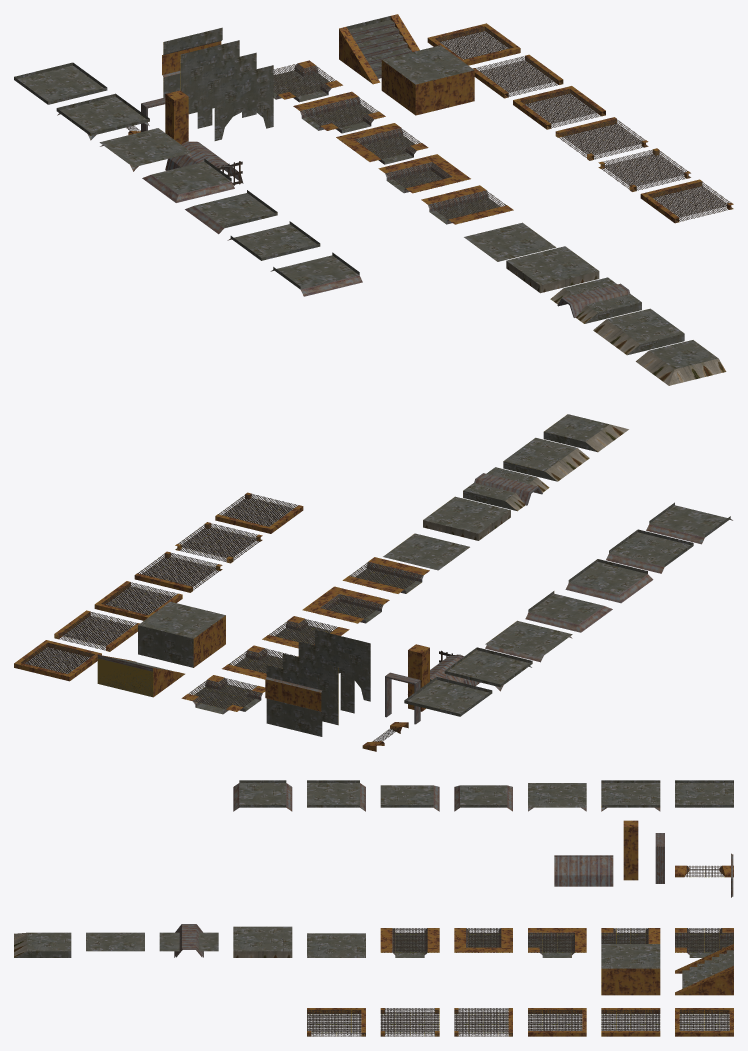
Rendered from ModularSewerKit.fbx_Showcase.fbx.
3 renders of one model, top to bottom at view 1: azimuth 30°, elevation 25°; view 2: azimuth 150°, elevation 25°; view 3: azimuth 270°, elevation 25°, orthographic. The views are drawn at different scales.
Visible parts, largest first — view 1: Floor011.001, Stairs001.001, Wall003.001, Floor009.001, Floor010.001, Floor007.001, Floor008.001, CatWalk003.001, CatWalk006.001, CatWalk004.001, CatWalk002.001, CatWalk005.001 (+19 smaller); view 2: Floor011.001, Wall002.001, Floor009.001, Ceiling003.001, Floor010.001, Floor007.001, Ceiling002.001, Stairs001.001, CatWalk001.001, CatWalk006.001, CatWalk004.001, CatWalk002.001 (+20 smaller); view 3: Floor011.001, Stairs001.001, PlugWall003.001, Floor009.001, CatWalk002.001, CatWalk005.001, CatWalk001.001, CatWalk003.001, Ceiling006.001, CatWalk004.001, CatWalk006.001, Floor002.001 (+17 smaller).
Boxes of the visible parts, x1=… form: Floor011.001: x1=381, y1=45, x2=474, y2=115; Stairs001.001: x1=339, y1=14, x2=419, y2=84; Wall003.001: x1=214, y1=65, x2=273, y2=140; Floor009.001: x1=506, y1=246, x2=599, y2=293; Floor010.001: x1=593, y1=308, x2=684, y2=355; Floor007.001: x1=550, y1=277, x2=641, y2=323; Floor008.001: x1=636, y1=340, x2=726, y2=385; CatWalk003.001: x1=513, y1=86, x2=605, y2=129; CatWalk006.001: x1=640, y1=179, x2=733, y2=223; CatWalk004.001: x1=555, y1=117, x2=648, y2=160; CatWalk002.001: x1=472, y1=54, x2=563, y2=98; CatWalk005.001: x1=598, y1=148, x2=690, y2=191; Floor011.001: x1=138, y1=601, x2=225, y2=667; Wall002.001: x1=265, y1=665, x2=322, y2=736; Floor009.001: x1=423, y1=496, x2=510, y2=540; Ceiling003.001: x1=565, y1=559, x2=653, y2=603; Floor010.001: x1=503, y1=437, x2=589, y2=481; Floor007.001: x1=463, y1=467, x2=549, y2=511; Ceiling002.001: x1=606, y1=529, x2=693, y2=573; Stairs001.001: x1=97, y1=654, x2=184, y2=697; CatWalk001.001: x1=14, y1=640, x2=101, y2=681; CatWalk006.001: x1=215, y1=492, x2=303, y2=533; CatWalk004.001: x1=134, y1=551, x2=222, y2=592; CatWalk002.001: x1=54, y1=610, x2=139, y2=651; Floor011.001: x1=601, y1=944, x2=660, y2=995; Stairs001.001: x1=675, y1=944, x2=733, y2=995; PlugWall003.001: x1=554, y1=855, x2=613, y2=886; Floor009.001: x1=233, y1=926, x2=292, y2=957; CatWalk002.001: x1=601, y1=1008, x2=660, y2=1036; CatWalk005.001: x1=380, y1=1008, x2=439, y2=1036; CatWalk001.001: x1=675, y1=1008, x2=733, y2=1036; CatWalk003.001: x1=528, y1=1008, x2=586, y2=1036; Ceiling006.001: x1=601, y1=780, x2=660, y2=811; CatWalk004.001: x1=454, y1=1008, x2=512, y2=1036; CatWalk006.001: x1=307, y1=1008, x2=365, y2=1036; Floor002.001: x1=380, y1=928, x2=439, y2=957.
Bounding box in the file's own units: 3200 × 430 × 4890.
